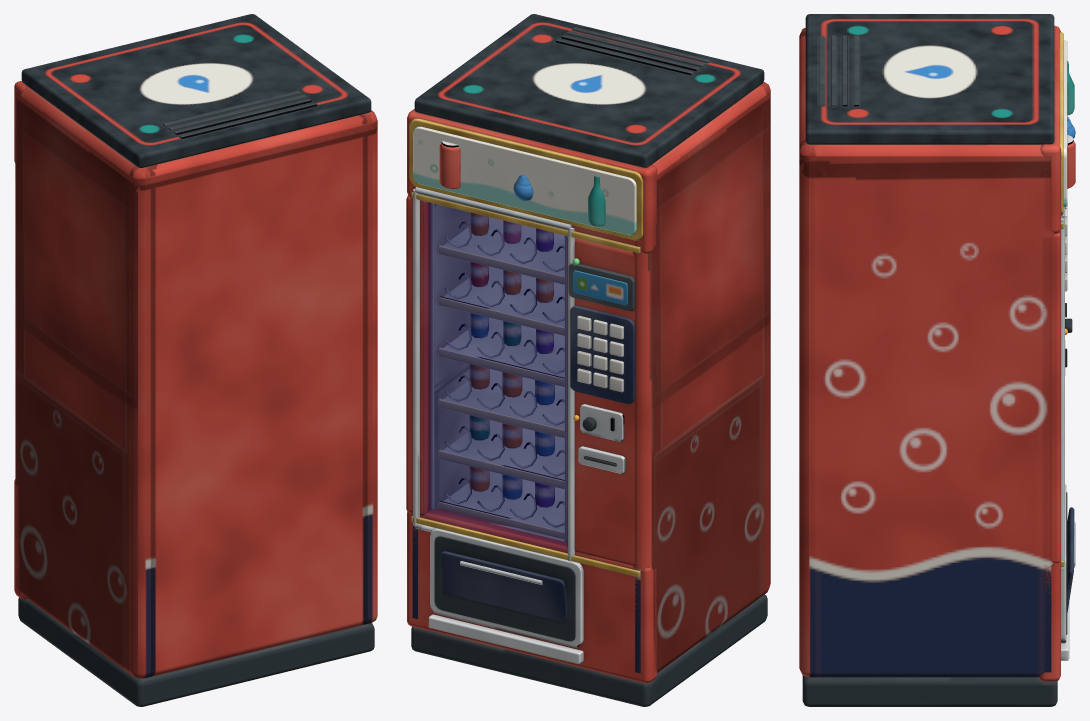
File: vending-machine.fbx
3 views of the same model, side by side, from view 1: azimuth 30°, elevation 25°; view 2: azimuth 150°, elevation 25°; view 3: azimuth 270°, elevation 25° (orthographic). The views are drawn at different scales.
Parts seen in each view (by area): view 1: Body; view 2: Body; view 3: Body.
Part boxes in pixels (x1,y1,x2,y2): Body: [14, 14, 377, 706]; Body: [406, 14, 770, 706]; Body: [799, 14, 1075, 706].
Size of the model in its own units: 0.9 by 1.95 by 0.845.
